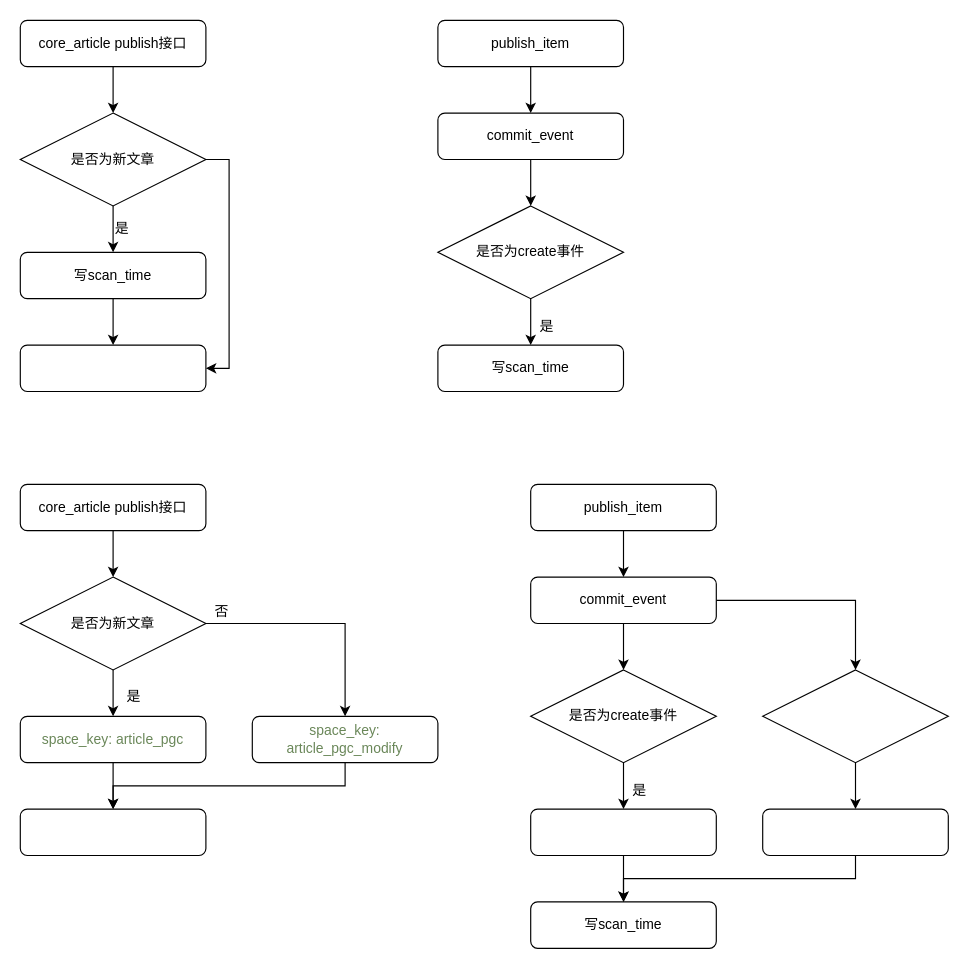
Some shapes in this 969 by 969 pixel diagram are drawn without their labels. Here are the shapes that lost their labels. From the top down, the centre of each, then its label:
[112,368]: 发crawl_pgc_event
[855,716]: latest_version是否有变更
[112,831]: scan_time
[623,831]: space_key: article_publish
[855,831]: space_key: article_modify
